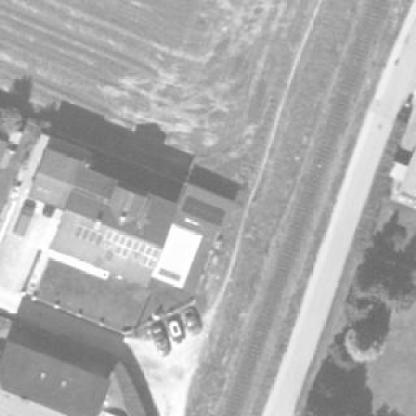solar-pv-panel: (104, 229, 161, 268), (182, 196, 226, 226), (75, 226, 104, 245)
